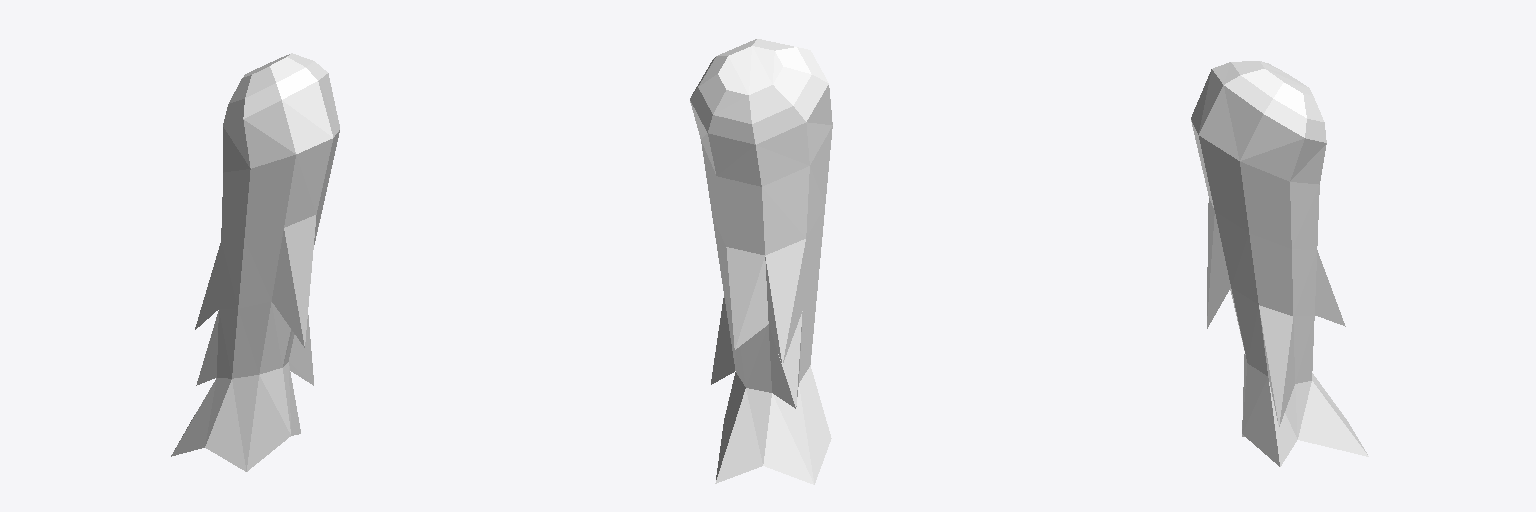
The model's file is LowLegL.obj.
3 renders of one model, left to right at view 1: azimuth 30°, elevation 25°; view 2: azimuth 150°, elevation 25°; view 3: azimuth 270°, elevation 25°, orthographic.
Parts seen in each view (by area): view 1: Lowerlegl1; view 2: Lowerlegl1; view 3: Lowerlegl1.
Part boxes in pixels (x1,y1,x2,y2): Lowerlegl1: (171, 53, 339, 471); Lowerlegl1: (690, 39, 832, 484); Lowerlegl1: (1191, 61, 1368, 466).
Bounding box in the file's own units: 1.37 × 3.96 × 1.61.